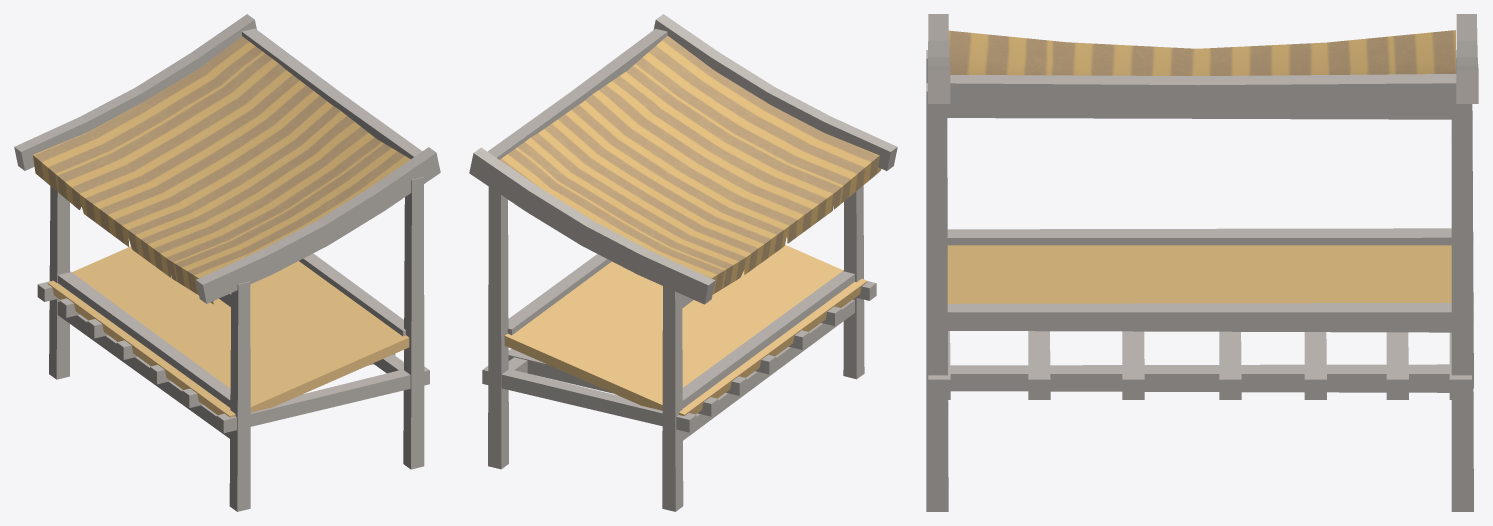
File: Store_C.fbx
3 renders of one model, left to right at view 1: azimuth 30°, elevation 25°; view 2: azimuth 150°, elevation 25°; view 3: azimuth 270°, elevation 25°, orthographic. The views are drawn at different scales.
Visible parts, largest first — view 1: Store_C; view 2: Store_C; view 3: Store_C.
Boxes of the visible parts, box(x1,y1,x2,y2) form: Store_C: box(14, 14, 440, 511); Store_C: box(469, 14, 897, 511); Store_C: box(926, 14, 1478, 511).
Size of the model in its own units: 379 by 473 by 525.
